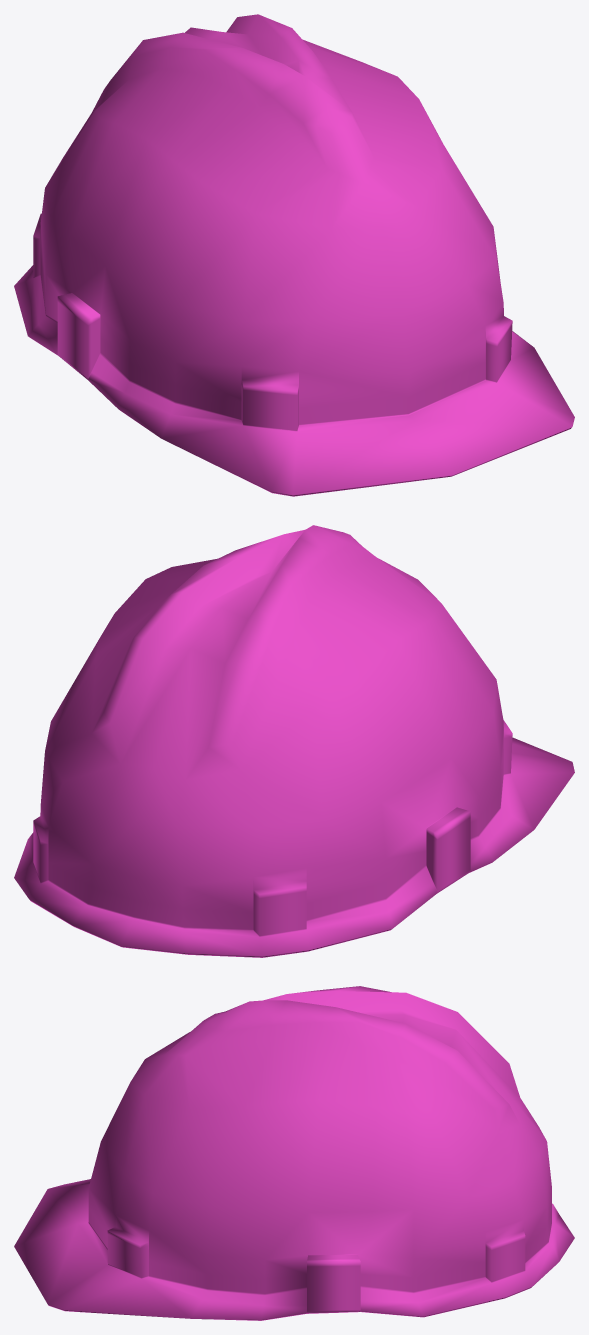
File: pinkkihattu.glb
3 views of the same model, one above another, from view 1: azimuth 30°, elevation 25°; view 2: azimuth 150°, elevation 25°; view 3: azimuth 270°, elevation 25° (orthographic). The views are drawn at different scales.
Parts seen in each view (by area): view 1: hardhat; view 2: hardhat; view 3: hardhat.
Part boxes in pixels (x1=…): hardhat: x1=14, y1=14, x2=574, y2=496; hardhat: x1=14, y1=525, x2=574, y2=957; hardhat: x1=14, y1=986, x2=574, y2=1320.
Bounding box in the file's own units: 16.38 × 12.2 × 24.62.
